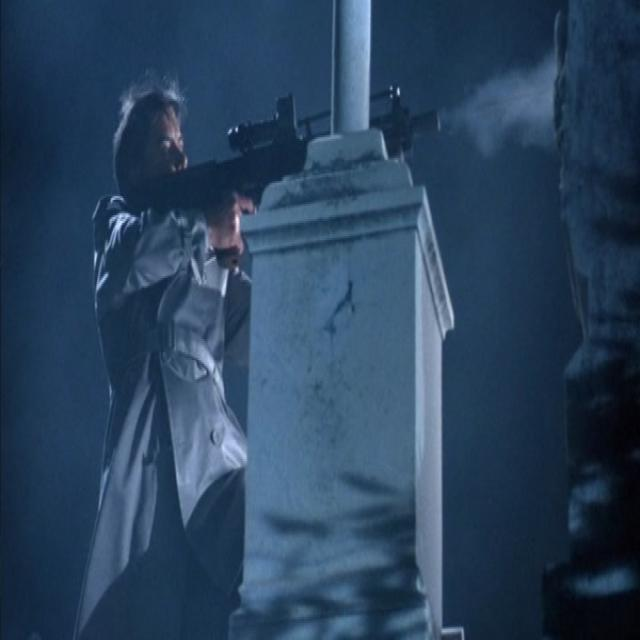rifle: (144, 80, 445, 274)
